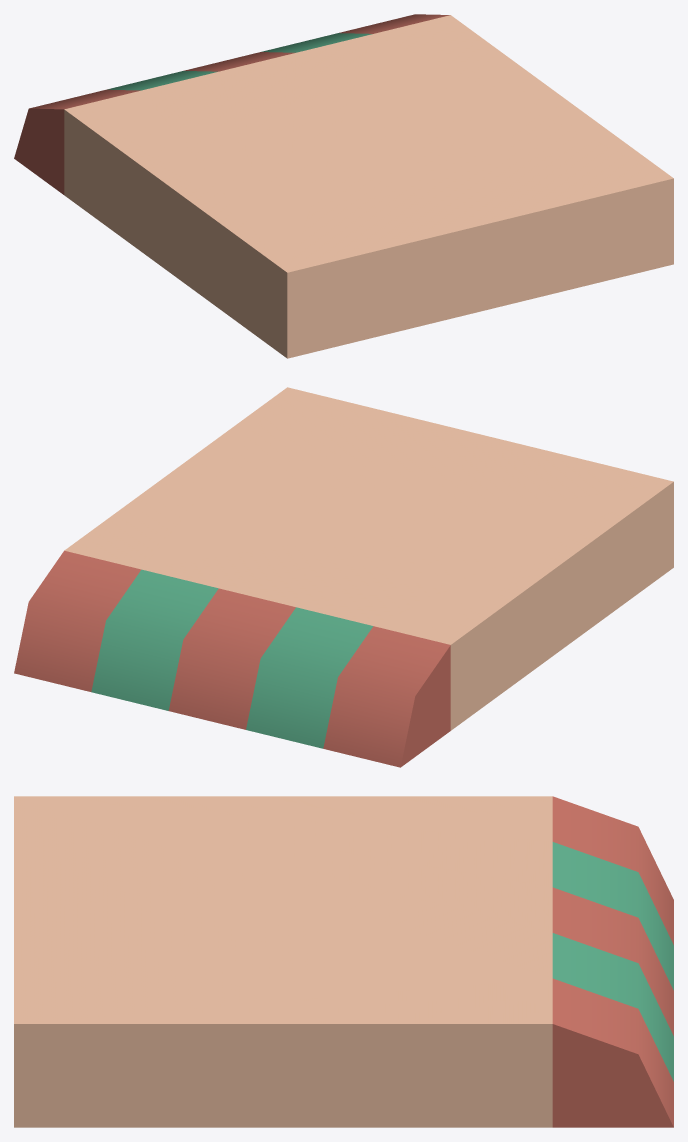
File: RoofAwningB.fbx
3 renders of one model, top to bottom at view 1: azimuth 30°, elevation 25°; view 2: azimuth 150°, elevation 25°; view 3: azimuth 270°, elevation 25°, orthographic. The views are drawn at different scales.
Parts seen in each view (by area): view 1: RoofAwningB; view 2: RoofAwningB; view 3: RoofAwningB.
Boxes of the visible parts, bbox=[...] form: RoofAwningB: bbox=[14, 14, 673, 358]; RoofAwningB: bbox=[14, 387, 673, 767]; RoofAwningB: bbox=[14, 796, 673, 1127].
Bounding box in the file's own units: 300 × 63.75 × 368.
